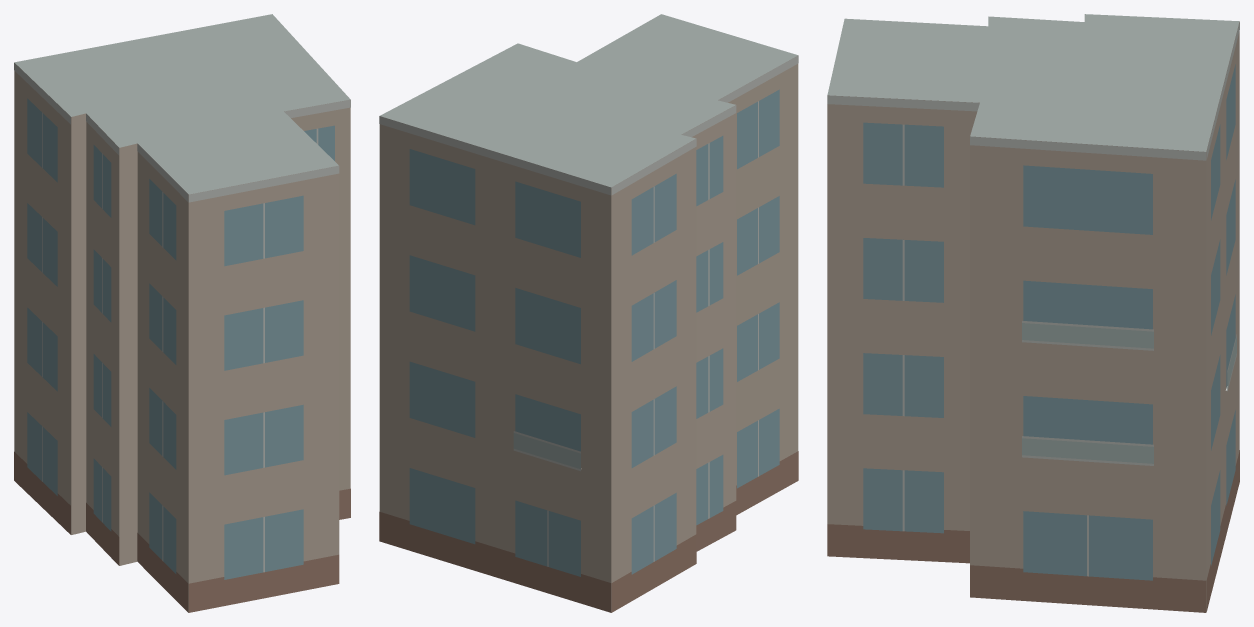
File: survey-upis-32982957.glb
3 renders of one model, left to right at view 1: azimuth 30°, elevation 25°; view 2: azimuth 150°, elevation 25°; view 3: azimuth 270°, elevation 25°, orthographic. The views are drawn at different scales.
Parts seen in each view (by area): view 1: survey-upis-32982957.tmp; view 2: survey-upis-32982957.tmp; view 3: survey-upis-32982957.tmp.
Part boxes in pixels (box(x1,y1,x2,y2)): survey-upis-32982957.tmp: box(14, 14, 350, 612); survey-upis-32982957.tmp: box(379, 14, 798, 612); survey-upis-32982957.tmp: box(827, 14, 1239, 612).
Size of the model in its own units: 8.22 by 12.8 by 10.39.
